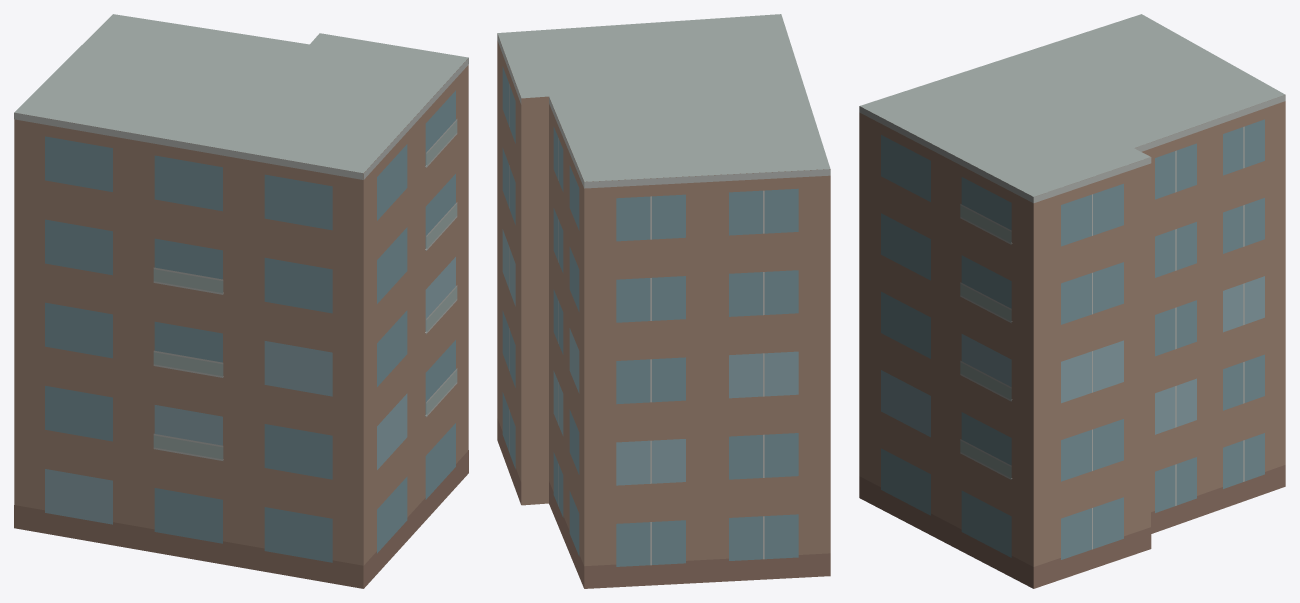
File: survey-upis-32816447.glb
3 renders of one model, left to right at view 1: azimuth 30°, elevation 25°; view 2: azimuth 150°, elevation 25°; view 3: azimuth 270°, elevation 25°, orthographic. The views are drawn at different scales.
Visible parts, largest first — view 1: survey-upis-32816447.tmp; view 2: survey-upis-32816447.tmp; view 3: survey-upis-32816447.tmp.
Boxes of the visible parts, <box> form: survey-upis-32816447.tmp: <box>14,14,468,588</box>; survey-upis-32816447.tmp: <box>497,14,830,588</box>; survey-upis-32816447.tmp: <box>859,14,1285,588</box>.
Bounding box in the file's own units: 14.97 × 14.95 × 14.74.
